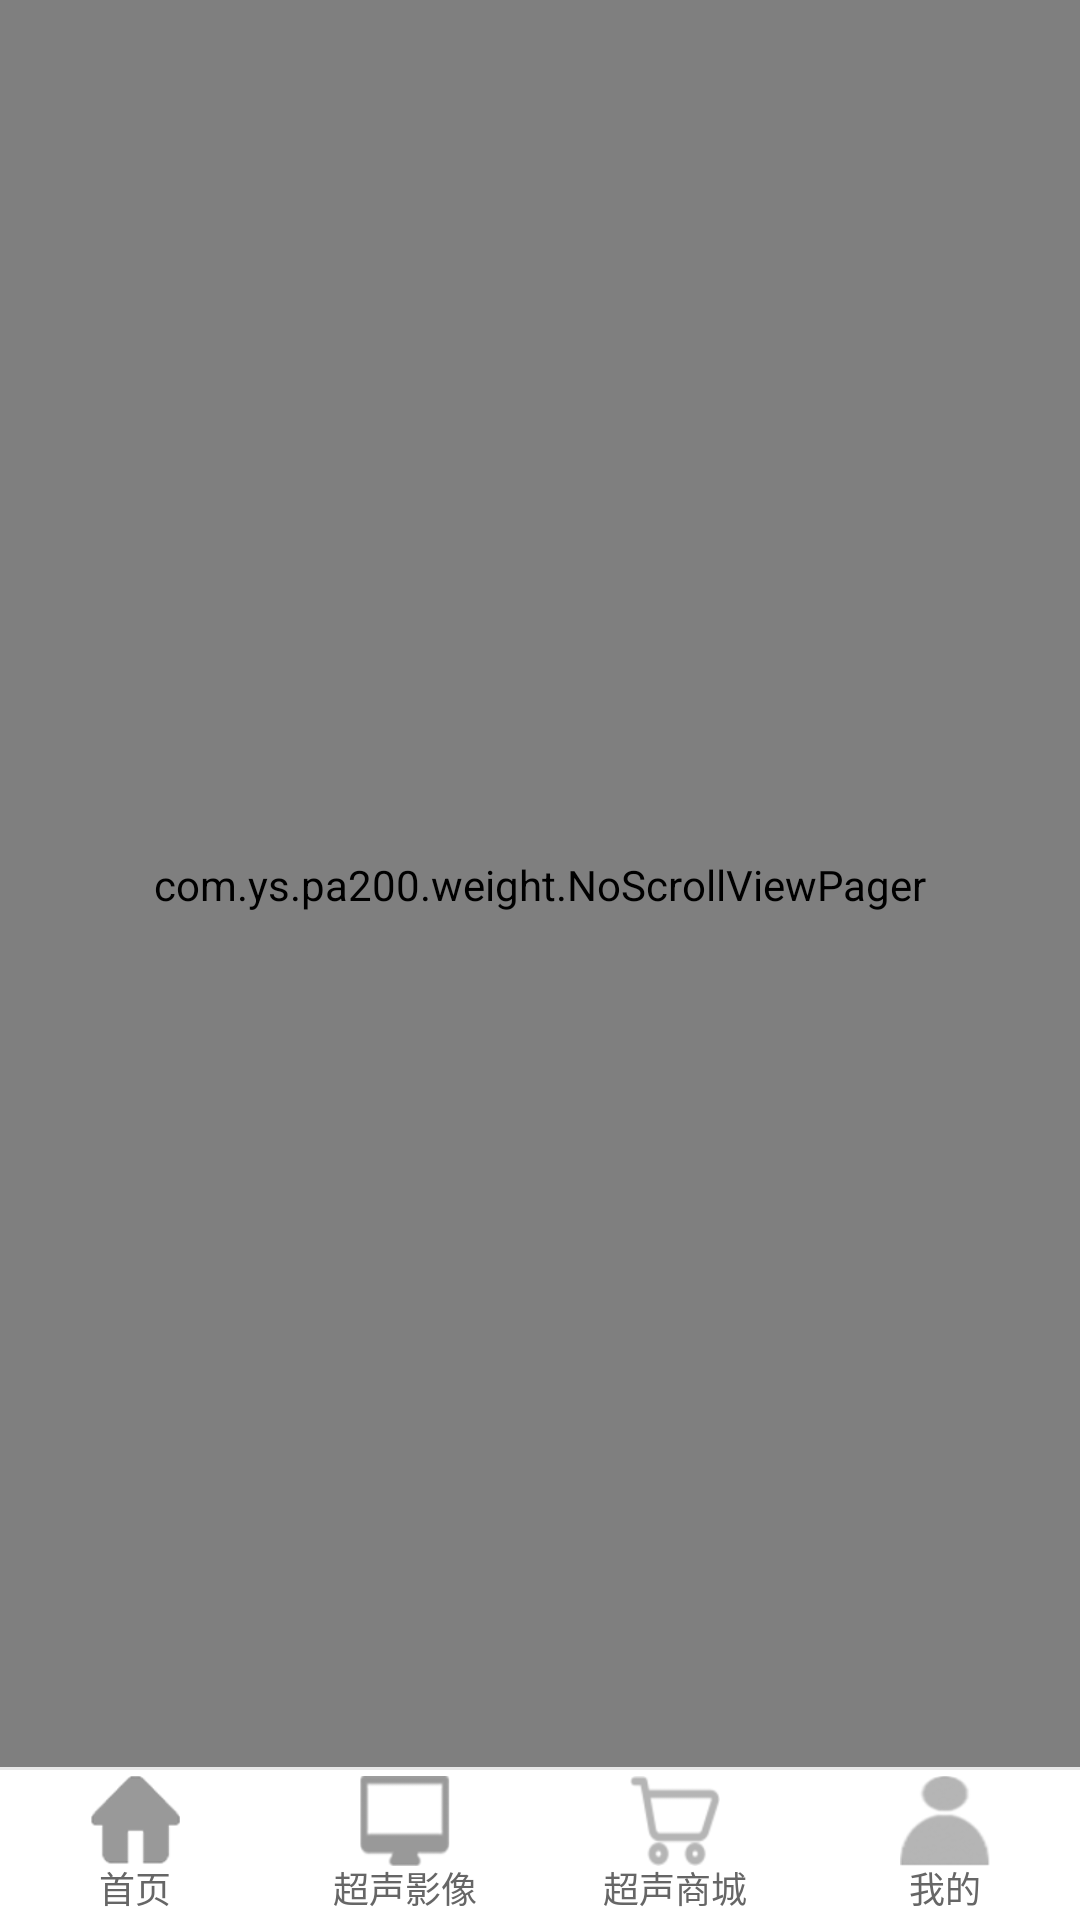

Point at icon controls on the screen. Image size 1080px x 1920px, points as [x,y].
devices: [404,1821]
user: [944,1820]
